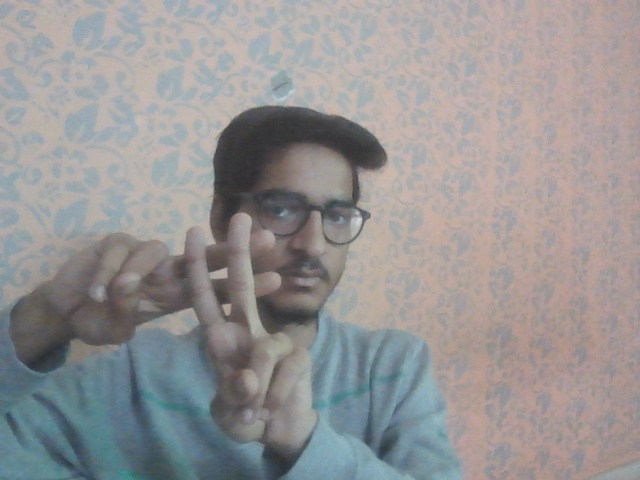HackJMI: (39, 208, 322, 450)
